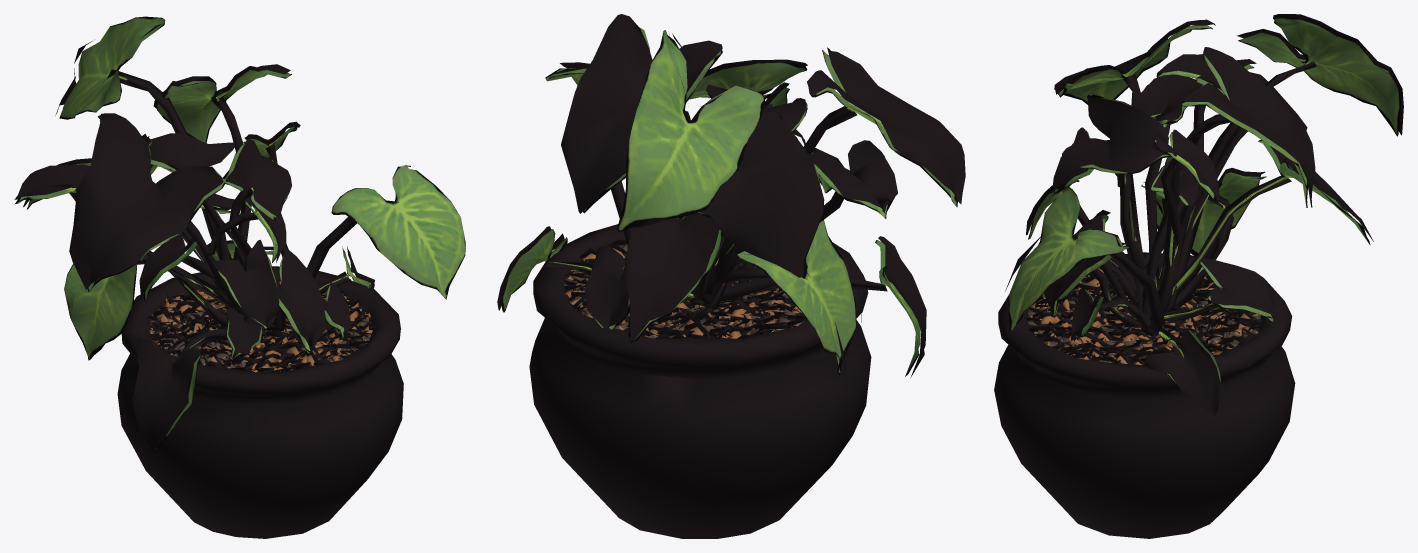
File: SM_Int_PottedPlantB.fbx
3 renders of one model, left to right at view 1: azimuth 30°, elevation 25°; view 2: azimuth 150°, elevation 25°; view 3: azimuth 270°, elevation 25°, orthographic. The views are drawn at different scales.
Parts seen in each view (by area): view 1: SM_Int_PottedPlantB; view 2: SM_Int_PottedPlantB; view 3: SM_Int_PottedPlantB.
Part boxes in pixels (box(x1,y1,x2,y2)): SM_Int_PottedPlantB: box(14, 16, 465, 538); SM_Int_PottedPlantB: box(497, 14, 965, 538); SM_Int_PottedPlantB: box(994, 14, 1403, 538).
Size of what is drawn, in the model's own units: 0.7032 by 0.8525 by 0.6702.
